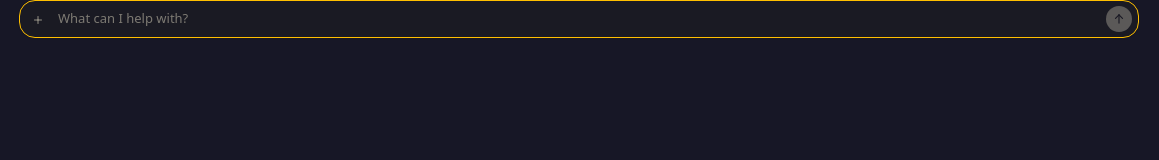
Test: Composer › Up arrow in an empty box recalls earlier messages, Down returns
The width and height of the screenshot is (1159, 160).
Type "first" into the text box named "Message".
click(578, 19); type("first")  # box [54,6,1102,32]
Then press Enter
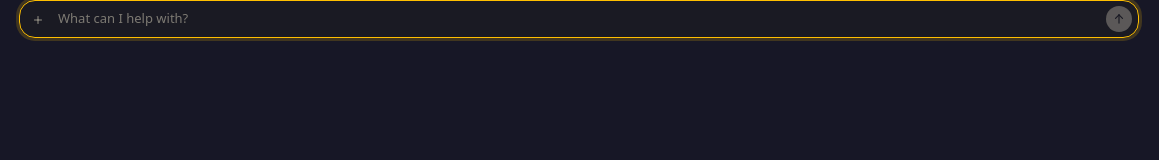
Type "second" into the text box named "Message".
click(578, 19); type("second")  # box [54,6,1102,32]
Then press Enter
Press Arrowup
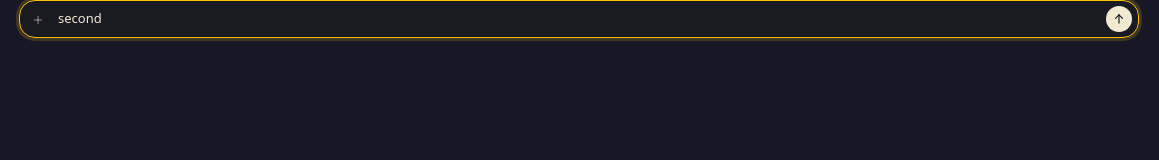
Press Arrowup
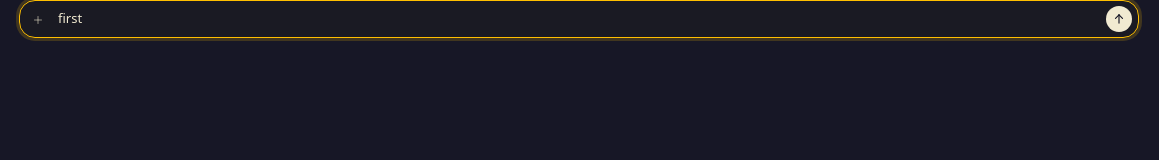
Press Arrowdown Arrowdown
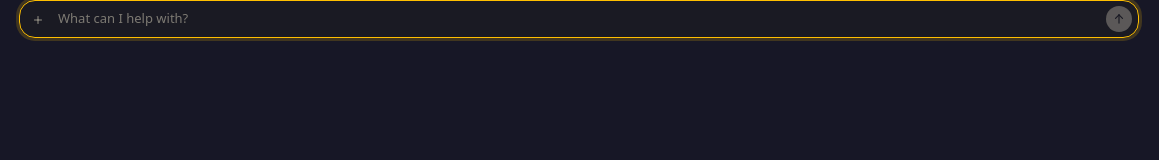
Now the text box named "Message" is empty, box [54,6,1102,32]
